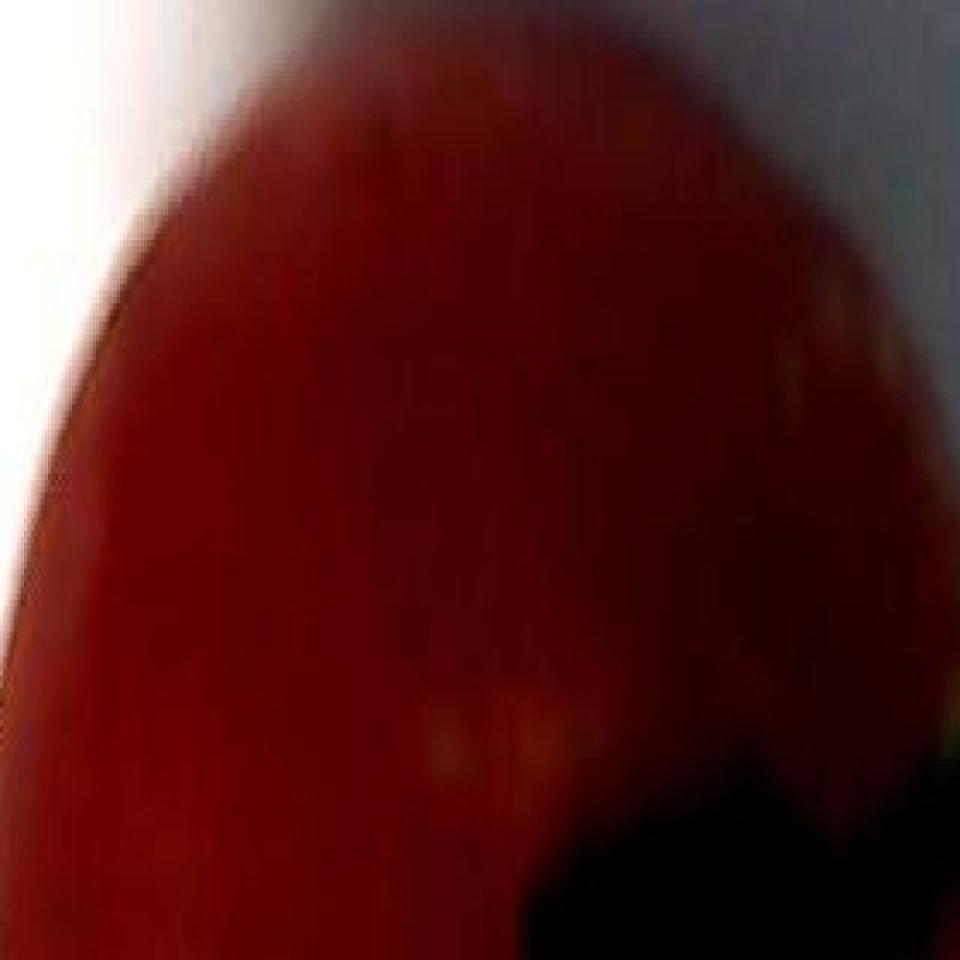Healthy: (28, 0, 960, 960)
